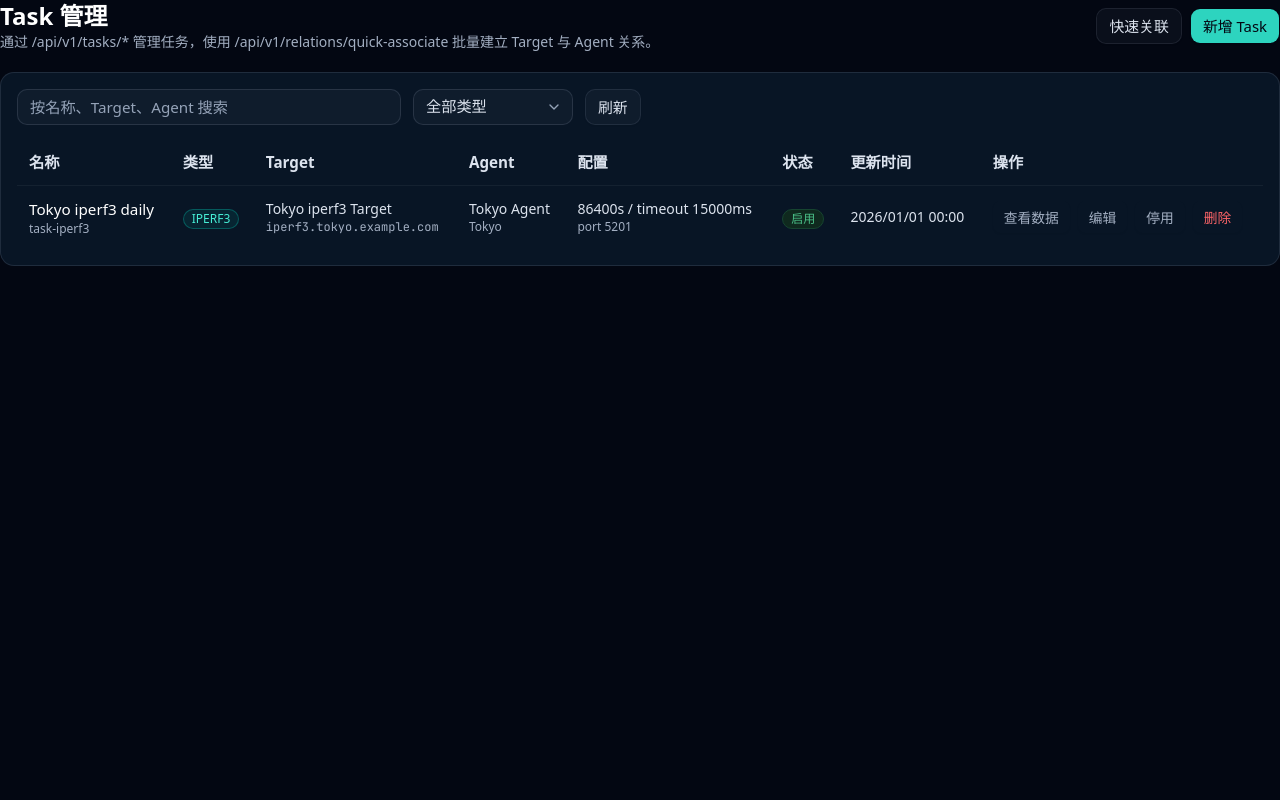
Test: TasksPage › edits iperf3 tasks with one canonical protocol label and described two-column fields
Click the button "编辑" at (1102, 217), box [1078,201,1127,233]
(page scrolled)
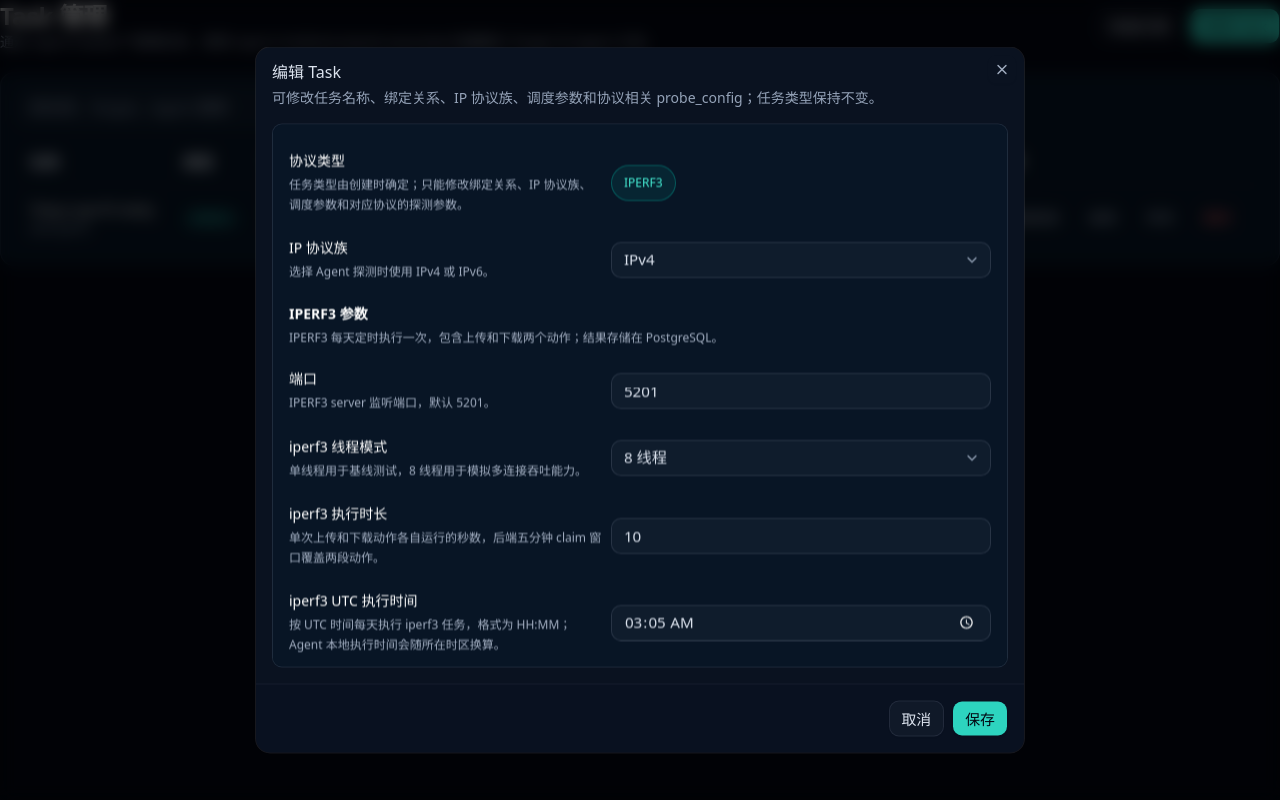
Result: the text "协议类型" is shown at [289,152,345,170]
Result: the text "IPERF3" is shown at [611,165,676,201]
Result: the text "任务类型由创建时确定；只能修改绑定关系、IP 协议族、调度参数和对应协议的探测参数。" is shown at [289,176,603,214]
